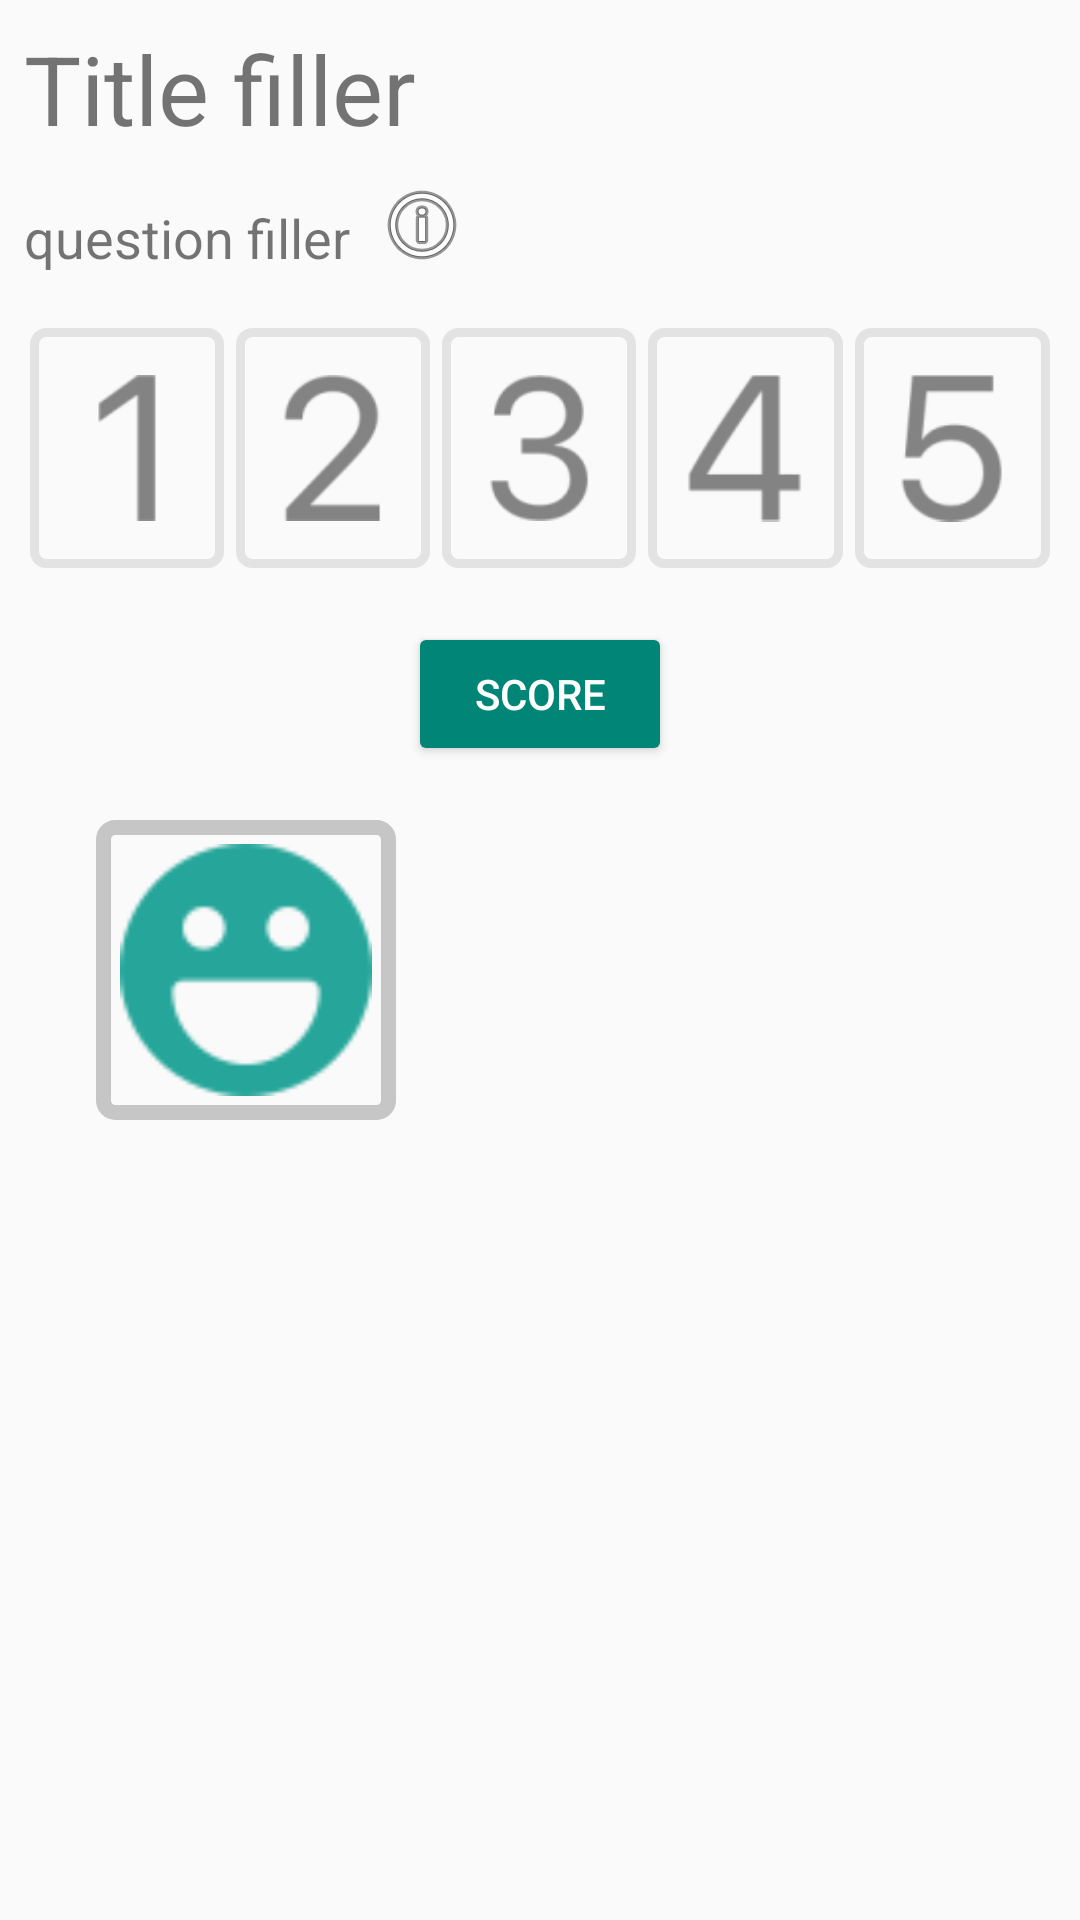

Icons on this 1080px×1920px Android screen, each with the point to tap as (x,y):
info details: (422,225)
laughter: (246,970)
